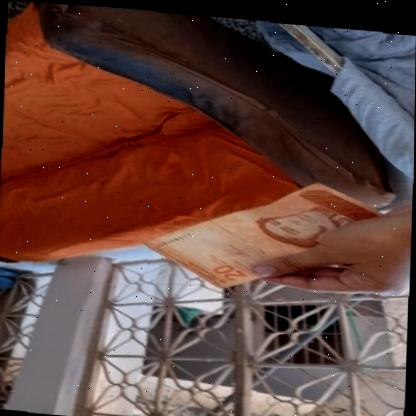twenty-front-vef: (140, 164, 385, 297)
